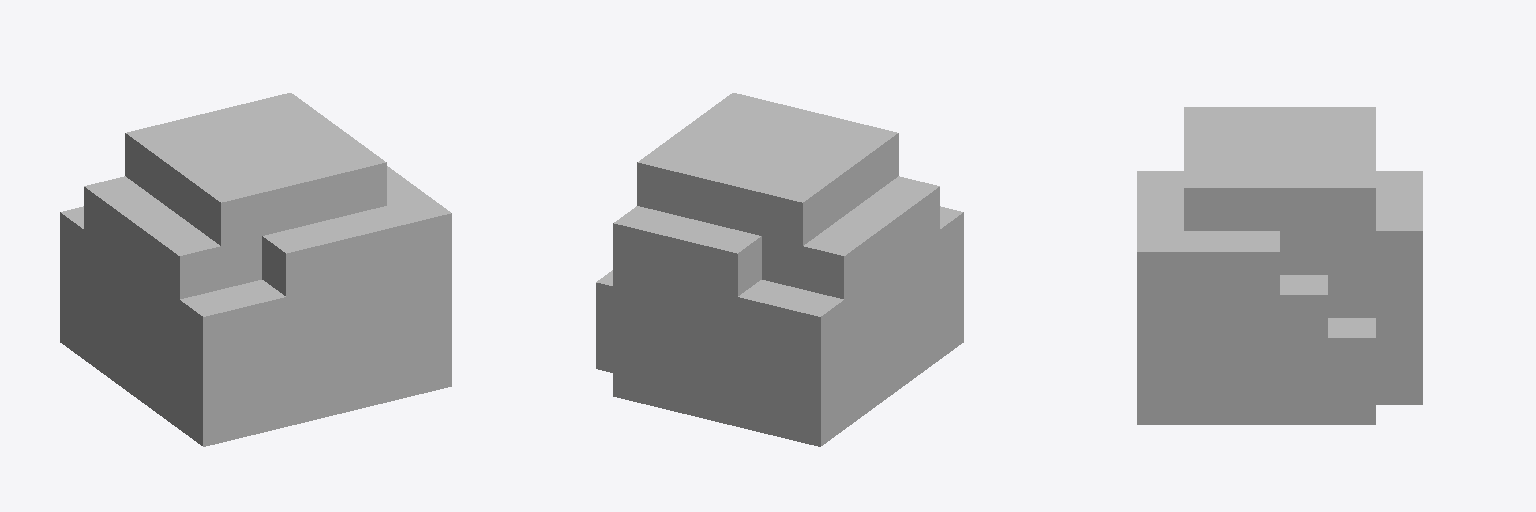
Rendered from Pedra 1.obj.
3 views of the same model, side by side, from view 1: azimuth 30°, elevation 25°; view 2: azimuth 150°, elevation 25°; view 3: azimuth 270°, elevation 25° (orthographic).
Parts seen in each view (by area): view 1: object 1; view 2: object 1; view 3: object 1.
Boxes of the visible parts, x1,y1,x2,y2 form: object 1: [60, 93, 451, 446]; object 1: [596, 93, 963, 446]; object 1: [1137, 107, 1422, 424].
Size of the model in its own units: 0.6 by 0.5 by 0.6.